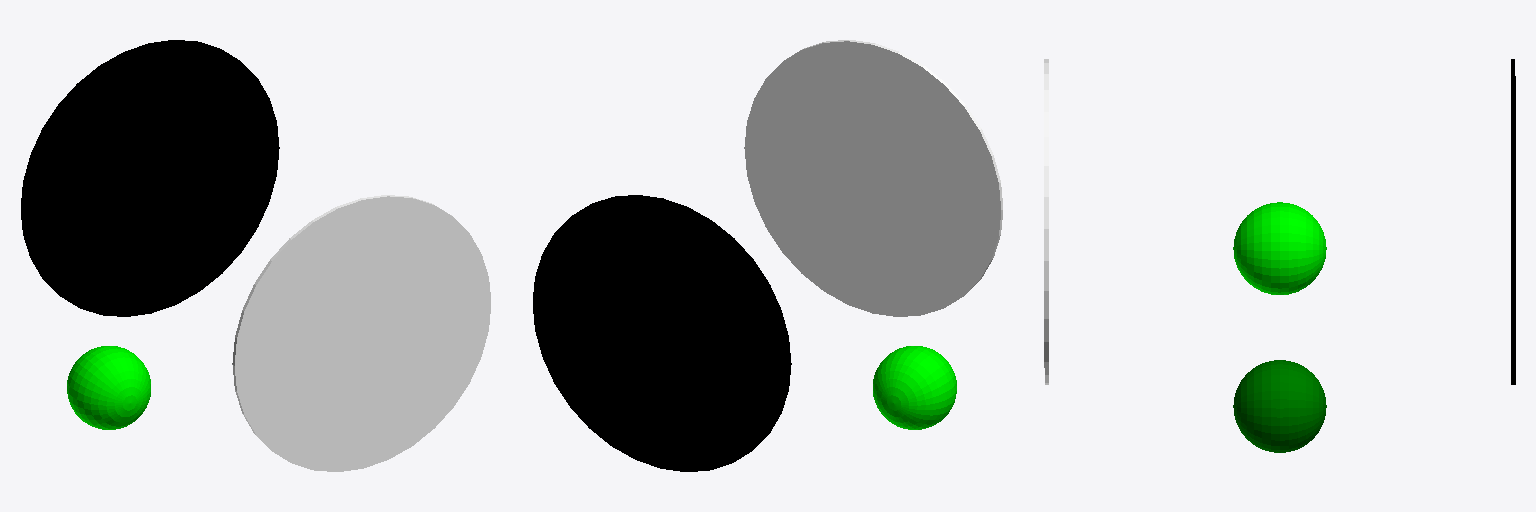
robot.urdf — box_bot:
<?xml version="1.0"?>
<robot name="box_bot">

  <material name="red">
      <color rgba="1.0 0.0 0.0 1"/>
  </material>

  <material name="green_light">
      <color rgba="0.0 1.0 0.0 1"/>
  </material>

  <material name="green_dark">
    <color rgba="0.0 0.5 0.0 1"/>
  </material>

  <material name="blue">
      <color rgba="0.0 0.0 1.0 1"/>
  </material>

  <material name="black">
      <color rgba="0.0 0.0 0.0 1"/>
  </material>

  <material name="white">
      <color rgba="1.0 1.0 1.0 1"/>
  </material>

  <link name="base_link">
  </link>


  <!-- Body -->
  <link name="chassis">
    <visual>
      <geometry>
        <mesh filename="package://my_box_bot_description/meshes/cute_cube.dae" scale="0.1 0.1 0.1"/>
      </geometry>
    </visual>
    
     <inertial>
      <mass value="0.2"/>
      <origin rpy="0 0 0" xyz="0 0 0"/>
      <inertia ixx="0.0003333333333333334" ixy="0" ixz="0" iyy="0.0003333333333333334" iyz="0" izz="0.0003333333333333334"/>
    </inertial>

    <collision>
      <geometry>
        <box size="0.1 0.1 0.1"/>
      </geometry>
    </collision>
  </link>

  <joint name="base_link_joint" type="fixed">
    <origin rpy="0 0 0" xyz="0 0 0" />
    <parent link="base_link" />
    <child link="chassis" />
  </joint>

  <!-- Wheel Left -->
  <link name="left_wheel">      
      <visual>
        <origin rpy="0 1.5707 1.5707" xyz="0 0 0"/>
        <geometry>
          <cylinder length="0.001" radius="0.035"/>
        </geometry>
        <material name="black"/>
      </visual>
  </link>


  <joint name="joint_left_wheel" type="continuous">
    <origin rpy="0 0 0" xyz="0 0.05 -0.025"/>
    <child link="left_wheel"/>
    <parent link="chassis"/>
    <axis rpy="0 0 0" xyz="0 1 0"/>
    <limit effort="10000" velocity="1000"/>
    <joint_properties damping="1.0" friction="1.0"/>
  </joint>

  <!-- Wheel Right -->
  <link name="right_wheel">      
      <visual>
        <origin rpy="0 1.5707 1.5707" xyz="0 0 0"/>
        <geometry>
          <cylinder length="0.001" radius="0.035"/>
        </geometry>
        <material name="white"/>
      </visual>
  </link>


  <joint name="joint_right_wheel" type="continuous">  
    <origin rpy="0 0 0" xyz="0 -0.05 -0.025"/>
    <child link="right_wheel"/>
    <parent link="chassis"/>
    <axis rpy="0 0 0" xyz="0 1 0"/>
    <limit effort="10000" velocity="1000"/>
    <joint_properties damping="1.0" friction="1.0"/>
  </joint>


  <!-- Caster Wheel Front -->
  <link name="front_yaw_link">
      <visual>
        <origin rpy="0 1.5707 1.5707" xyz="0 0 0"/>
        <geometry>          
          <cylinder length="0.001" radius="0.0045000000000000005"/>
        </geometry>
        <material name="blue"/>
      </visual>
  </link>

  <joint name="front_yaw_joint" type="continuous">
    <origin rpy="0 0 0" xyz="0.04 0 -0.05" />
    <parent link="chassis" />
    <child link="front_yaw_link" />
    <axis xyz="0 0 1" />
    <limit effort="1000.0" velocity="100.0" />
    <dynamics damping="0.0" friction="0.1"/>
  </joint>



  <link name="front_roll_link">
      <visual>
        <origin rpy="0 1.5707 1.5707" xyz="0 0 0"/>
        <geometry>
          <cylinder length="0.001" radius="0.0045000000000000005"/>
        </geometry>
        <material name="red"/>
      </visual>
  </link>

  <joint name="front_roll_joint" type="continuous">
    <origin rpy="0 0 0" xyz="0 0 0" />
    <parent link="front_yaw_link" />
    <child link="front_roll_link" />
    <axis xyz="1 0 0" />
    <limit effort="1000.0" velocity="100.0" />
    <dynamics damping="0.0" friction="0.1"/>
  </joint>


  <link name="front_pitch_link">
    <visual>
      <origin rpy="0 1.5707 1.5707" xyz="0 0 0"/>
      <geometry>
        <sphere radius="0.010"/>
      </geometry>
      <material name="green_dark"/>
    </visual>
  </link>



  <joint name="front_pitch_joint" type="continuous">
    <origin rpy="0 0 0" xyz="0 0 0" />
    <parent link="front_roll_link" />
    <child link="front_pitch_link" />
    <axis xyz="0 1 0" />
    <limit effort="1000.0" velocity="100.0" />
    <dynamics damping="0.0" friction="0.1"/>
  </joint>

<!-- Caster Wheel Back -->
  <link name="back_yaw_link">
    <visual>
        <origin rpy="0 1.5707 1.5707" xyz="0 0 0"/>
        <geometry>
          <cylinder length="0.001" radius="0.0045000000000000005"/>
        </geometry>
        <material name="blue"/>
      </visual>

  </link>

  <joint name="back_yaw_joint" type="continuous">
    <origin rpy="0 0 0" xyz="-0.04 0 -0.05" />
    <parent link="chassis" />
    <child link="back_yaw_link" />
    <axis xyz="0 0 1" />
    <limit effort="1000.0" velocity="100.0" />
    <dynamics damping="0.0" friction="0.1"/>
  </joint>



  <link name="back_roll_link">
      <visual>
        <origin rpy="0 1.5707 1.5707" xyz="0 0 0"/>
        <geometry>
          <cylinder length="0.001" radius="0.0045000000000000005"/>
        </geometry>
        <material name="red"/>
      </visual>
  </link>

  <joint name="back_roll_joint" type="continuous">
    <origin rpy="0 0 0" xyz="0 0 0" />
    <parent link="back_yaw_link" />
    <child link="back_roll_link" />
    <axis xyz="1 0 0" />
    <limit effort="1000.0" velocity="100.0" />
    <dynamics damping="0.0" friction="0.1"/>
  </joint>



  <link name="back_pitch_link">
    <visual>
      <origin rpy="0 1.5707 1.5707" xyz="0 0 0"/>
      <geometry>
        <sphere radius="0.010"/>
      </geometry>
      <material name="green_light"/>
    </visual>
  </link>

  <joint name="back_pitch_joint" type="continuous">
    <origin rpy="0 0 0" xyz="0 0 0" />
    <parent link="back_roll_link" />
    <child link="back_pitch_link" />
    <axis xyz="0 1 0" />
    <limit effort="1000.0" velocity="100.0" />
    <dynamics damping="0.0" friction="0.1"/>
  </joint>

</robot>

--- What the picture shows (computed from the rendered views, not written in the file) ---
Views: 3 orthographic renders of the robot side by side, from view 1: azimuth 30°, elevation 25°; view 2: azimuth 150°, elevation 25°; view 3: azimuth 270°, elevation 25°.
Robot: box_bot — 10 links, 9 joints (8 continuous, 1 fixed); root link base_link; default pose: every joint at zero.
Links seen in each view (by area): view 1: left_wheel, right_wheel, back_pitch_link; view 2: left_wheel, right_wheel, back_pitch_link; view 3: front_pitch_link, back_pitch_link, left_wheel, right_wheel.
Link boxes in pixels (left/top/right/bottom): left_wheel: left=21, top=40, right=279, bottom=316; right_wheel: left=232, top=195, right=490, bottom=471; back_pitch_link: left=67, top=346, right=150, bottom=429; left_wheel: left=533, top=195, right=791, bottom=471; right_wheel: left=744, top=40, right=1002, bottom=316; back_pitch_link: left=873, top=346, right=956, bottom=429; front_pitch_link: left=1233, top=360, right=1326, bottom=452; back_pitch_link: left=1233, top=202, right=1326, bottom=294; left_wheel: left=1511, top=59, right=1515, bottom=384; right_wheel: left=1044, top=59, right=1048, bottom=384.
Bounding box of the posed robot: 0.1 × 0.101 × 0.07 m (x, y, z).
0 mesh visuals loaded from 1 distinct referenced files (none loaded); not drawn: 1 (file found but could not be loaded).